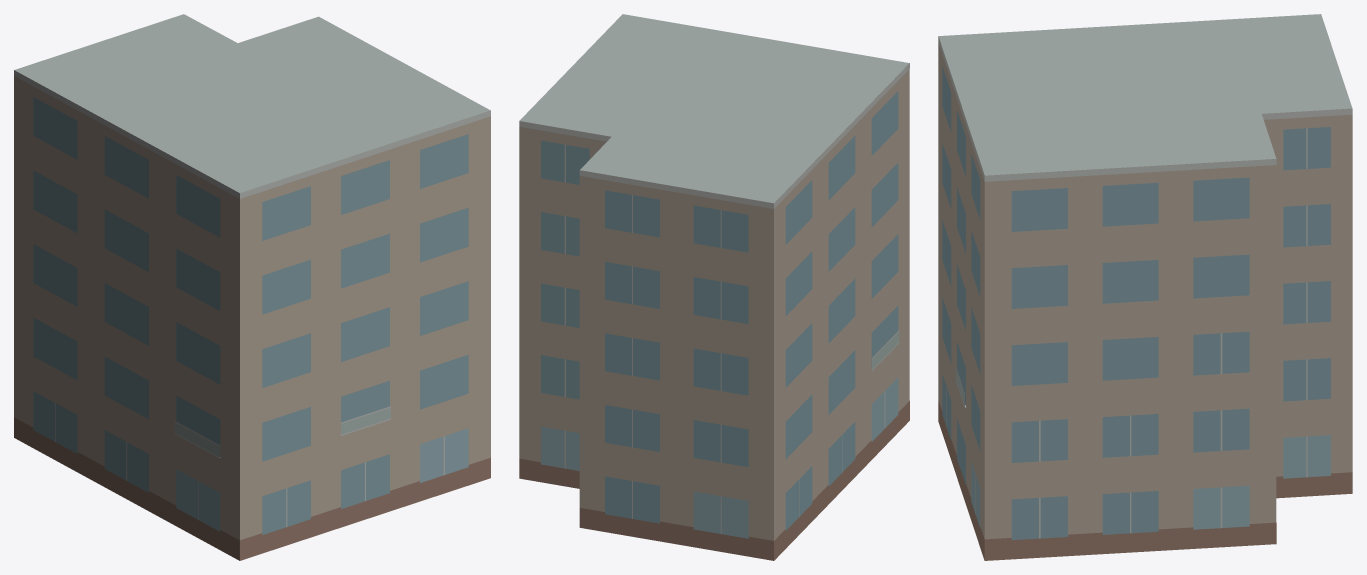
File: survey-upis-32577652.glb
3 renders of one model, left to right at view 1: azimuth 30°, elevation 25°; view 2: azimuth 150°, elevation 25°; view 3: azimuth 270°, elevation 25°, orthographic. The views are drawn at different scales.
Parts seen in each view (by area): view 1: survey-upis-32577652.tmp; view 2: survey-upis-32577652.tmp; view 3: survey-upis-32577652.tmp.
Boxes of the visible parts, x1,y1,x2,y2 form: survey-upis-32577652.tmp: [14, 14, 490, 560]; survey-upis-32577652.tmp: [519, 14, 909, 560]; survey-upis-32577652.tmp: [938, 14, 1352, 560].
Bounding box in the file's own units: 13.82 × 15.35 × 14.96.
